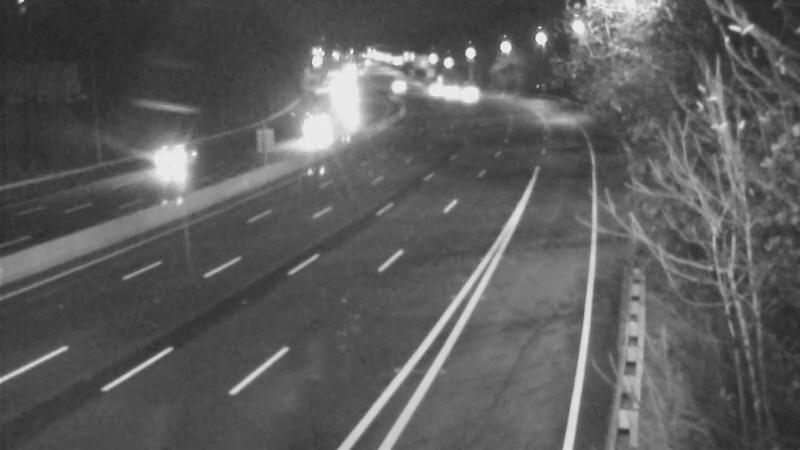vehicle: (124, 122, 204, 202), (368, 61, 418, 111), (404, 66, 454, 116), (423, 68, 473, 118), (447, 72, 497, 122), (288, 108, 338, 158), (324, 87, 374, 137)
